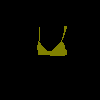reggiseno: (37, 25, 67, 56)
